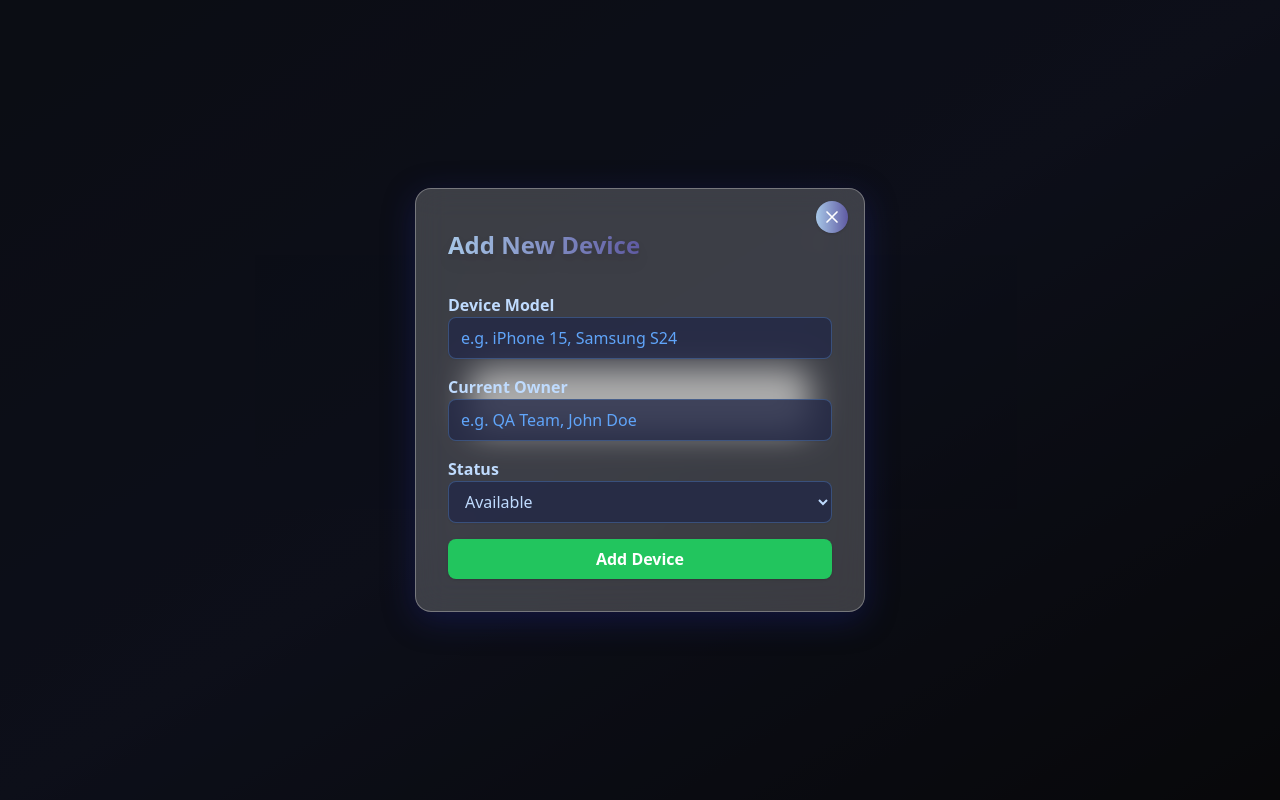
DeviceModal › validates inputs before submission
Expected: the heading "Add New Device" is shown, [448, 229, 832, 261]
Click the button "Add Device".
click(640, 559)  # box [448, 539, 832, 579]
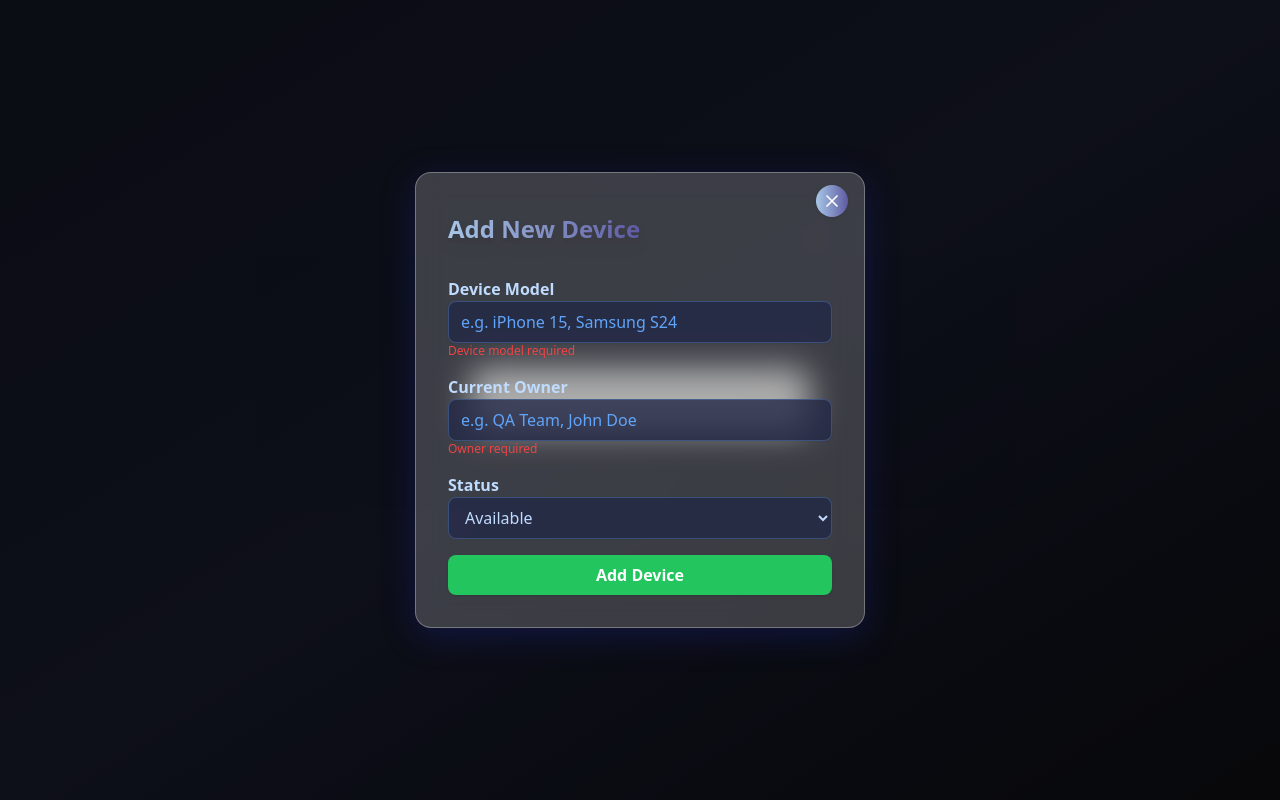
Expected: the text "Device model required" is shown, [448, 342, 575, 359]
Expected: the text "Owner required" is shown, [448, 440, 537, 457]
